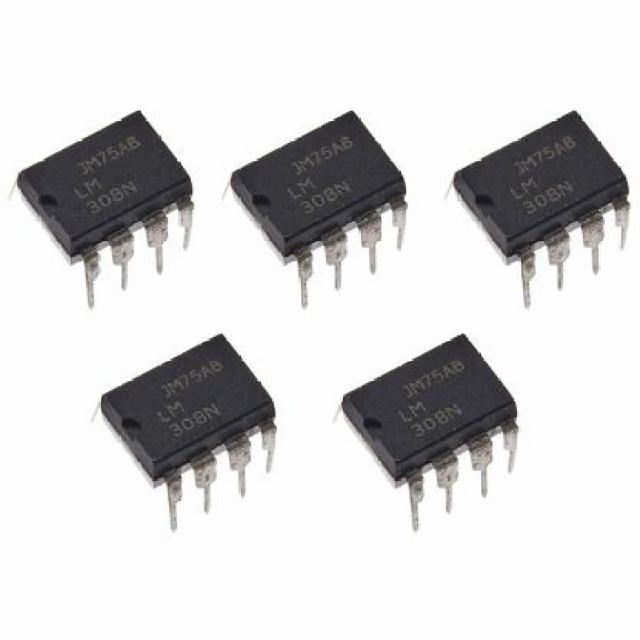IC chip: (452, 111, 629, 274), (342, 334, 517, 488), (97, 334, 275, 483), (231, 112, 406, 260), (15, 111, 192, 257)
